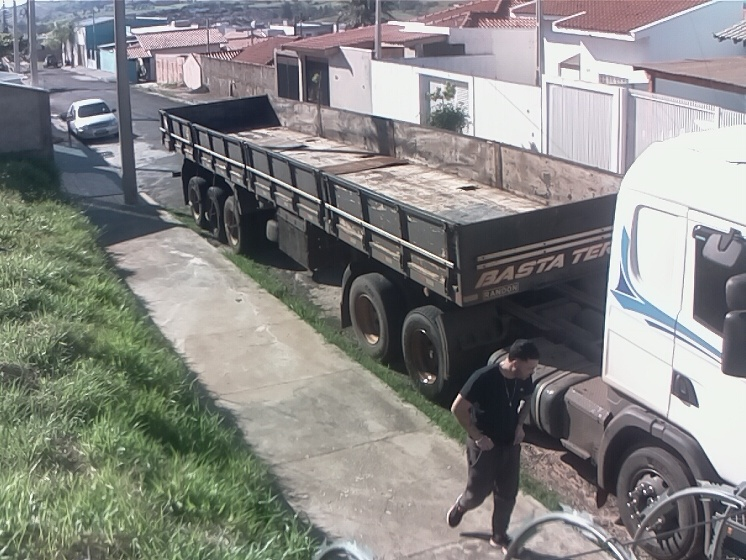person: (441, 335, 543, 556)
